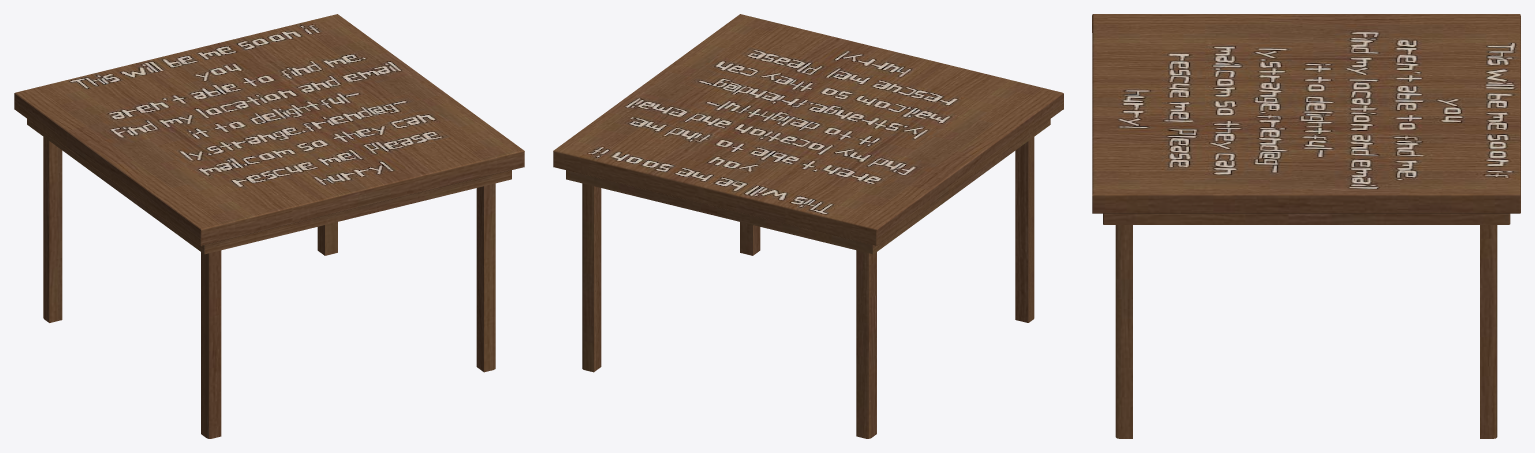
The model's file is table_redo_2.gltf.
3 views of the same model, side by side, from view 1: azimuth 30°, elevation 25°; view 2: azimuth 150°, elevation 25°; view 3: azimuth 270°, elevation 25° (orthographic). The views are drawn at different scales.
Visible parts, largest first — view 1: pCube6:PIV; view 2: pCube6:PIV; view 3: pCube6:PIV.
Part boxes in pixels (bbox=[...]): pCube6:PIV: bbox=[14, 14, 524, 438]; pCube6:PIV: bbox=[553, 14, 1063, 438]; pCube6:PIV: bbox=[1092, 14, 1520, 438].
Size of the model in its own units: 10 by 6.55 by 10.
Materials: 1 (1 with a texture image).
